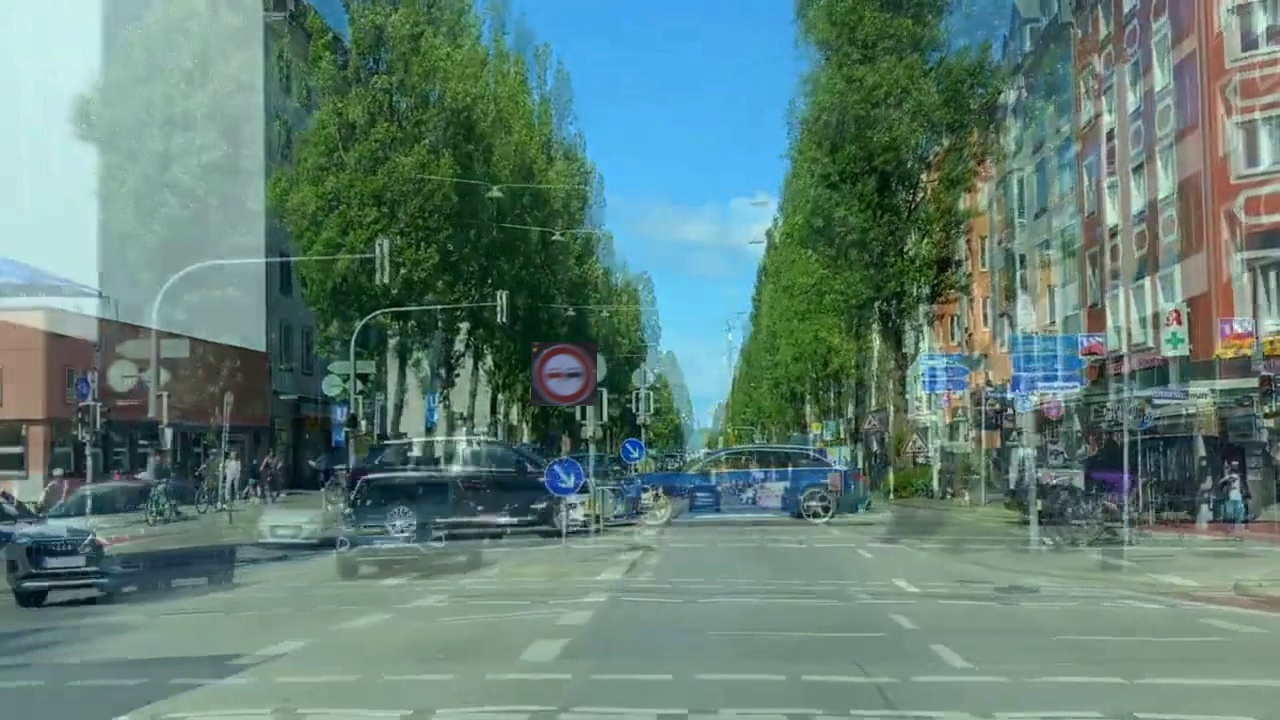No passing: (531, 342, 597, 406)
